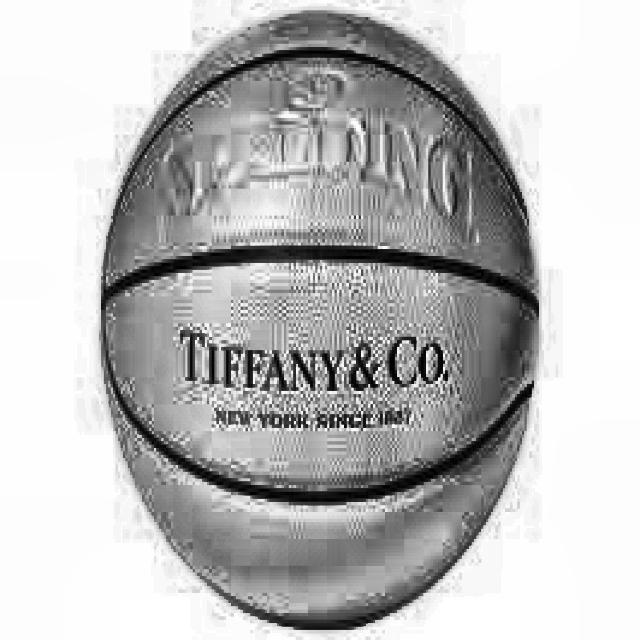Basketball: (103, 13, 541, 628)
